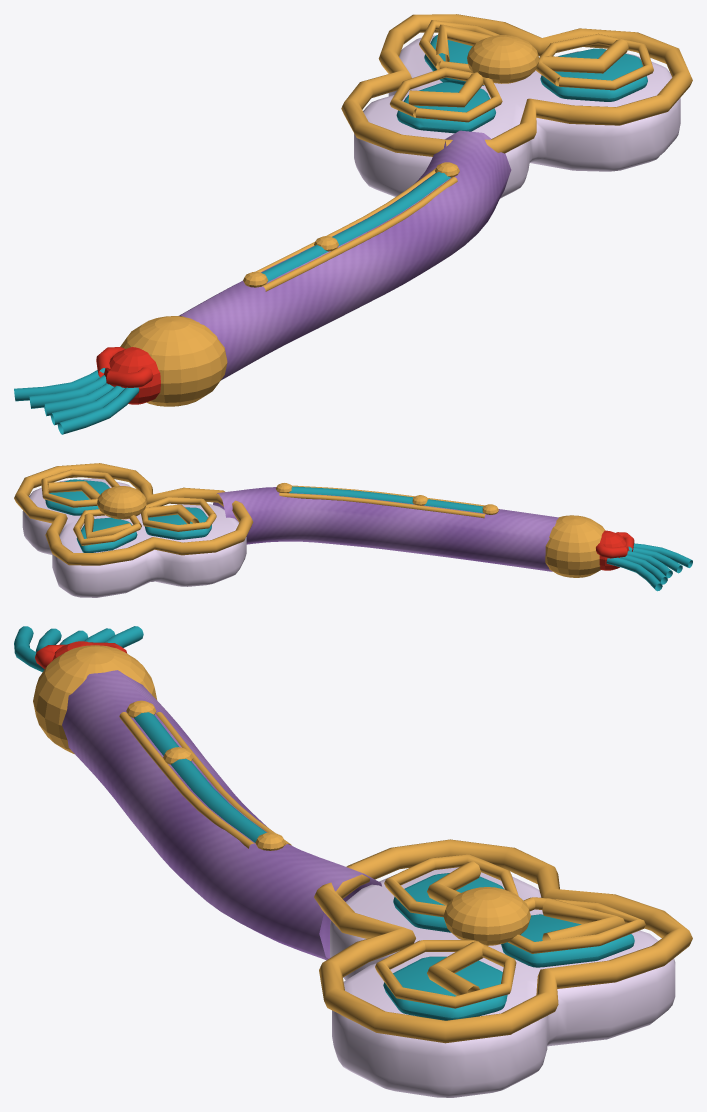
The model's file is ruyi.glb.
The picture shows the model from 3 angles, top to bottom: view 1: azimuth 30°, elevation 25°; view 2: azimuth 150°, elevation 25°; view 3: azimuth 270°, elevation 25°; orthographic projection. The views are drawn at different scales.
Visible parts, largest first — view 1: continuous-s-curve-jade-handle, single-silhouette-three-lobe-cloud-head, continuous-gold-cloud-border, antique-gold-tail-cap, three-gold-cloisonne-wires, three-peacock-enamel-petals, five-peacock-tassels, three-gold-cloud-curls, warm-gold-cloud-boss, peacock-enamel-handle-inlay, twin-gold-handle-rails, cinnabar-tassel-knot (+2 smaller); view 2: continuous-s-curve-jade-handle, single-silhouette-three-lobe-cloud-head, continuous-gold-cloud-border, three-gold-cloisonne-wires, antique-gold-tail-cap, three-peacock-enamel-petals, five-peacock-tassels, three-gold-cloud-curls, twin-gold-handle-rails, peacock-enamel-handle-inlay, warm-gold-cloud-boss, cinnabar-tassel-knot (+2 smaller); view 3: continuous-s-curve-jade-handle, single-silhouette-three-lobe-cloud-head, continuous-gold-cloud-border, three-gold-cloisonne-wires, three-peacock-enamel-petals, antique-gold-tail-cap, three-gold-cloud-curls, warm-gold-cloud-boss, peacock-enamel-handle-inlay, twin-gold-handle-rails, five-peacock-tassels, three-gold-handle-pearls.
Part boxes in pixels (x1,y1,x2,y2): continuous-s-curve-jade-handle: (179,130,511,380); single-silhouette-three-lobe-cloud-head: (354,35,680,198); continuous-gold-cloud-border: (341,14,692,156); antique-gold-tail-cap: (120,316,227,406); three-gold-cloisonne-wires: (390,20,653,122); three-peacock-enamel-petals: (396,35,647,133); five-peacock-tassels: (14,368,139,434); three-gold-cloud-curls: (408,24,628,107); warm-gold-cloud-boss: (467,35,539,83); peacock-enamel-handle-inlay: (261,172,450,281); twin-gold-handle-rails: (256,168,457,291); cinnabar-tassel-knot: (104,347,160,404); continuous-s-curve-jade-handle: (213,487,558,571); single-silhouette-three-lobe-cloud-head: (22,478,246,597); continuous-gold-cloud-border: (14,463,253,565); three-gold-cloisonne-wires: (41,469,216,545); antique-gold-tail-cap: (545,515,605,577); three-peacock-enamel-petals: (45,479,211,552); five-peacock-tassels: (606,543,692,591); three-gold-cloud-curls: (47,481,199,538); twin-gold-handle-rails: (279,485,485,518); peacock-enamel-handle-inlay: (289,486,483,513); warm-gold-cloud-boss: (97,486,146,519); cinnabar-tassel-knot: (599,530,629,570); continuous-s-curve-jade-handle: (62,670,381,960); single-silhouette-three-lobe-cloud-head: (330,867,675,1097); continuous-gold-cloud-border: (314,839,692,1043); three-gold-cloisonne-wires: (375,854,645,1008); three-peacock-enamel-petals: (383,873,634,1020); antique-gold-tail-cap: (33,645,157,754); three-gold-cloud-curls: (427,861,625,995); warm-gold-cloud-boss: (443,887,530,945); peacock-enamel-handle-inlay: (134,712,266,842); twin-gold-handle-rails: (119,712,291,848); five-peacock-tassels: (14,626,143,672); three-gold-handle-pearls: (126,700,285,850).
Bounding box in the file's own units: 1 × 0.1454 × 0.6117.
Materials: 5 (1 with a texture image).
